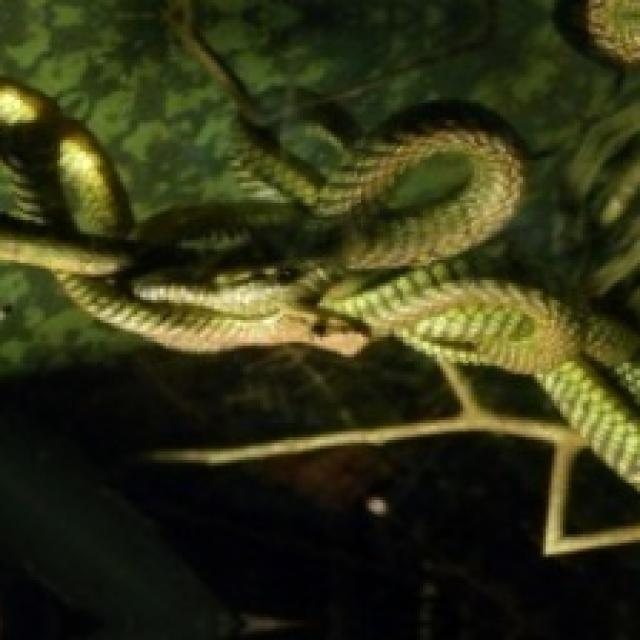paradise tree snake: (0, 79, 640, 487)
